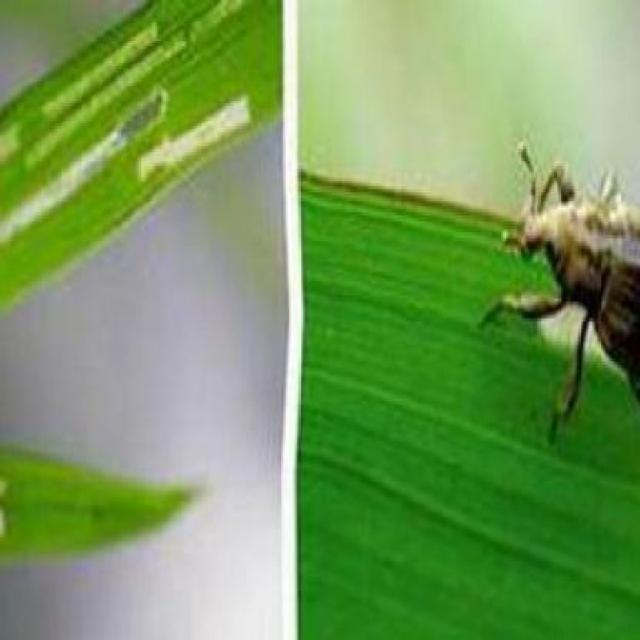rice-bug: (511, 172, 638, 402)
